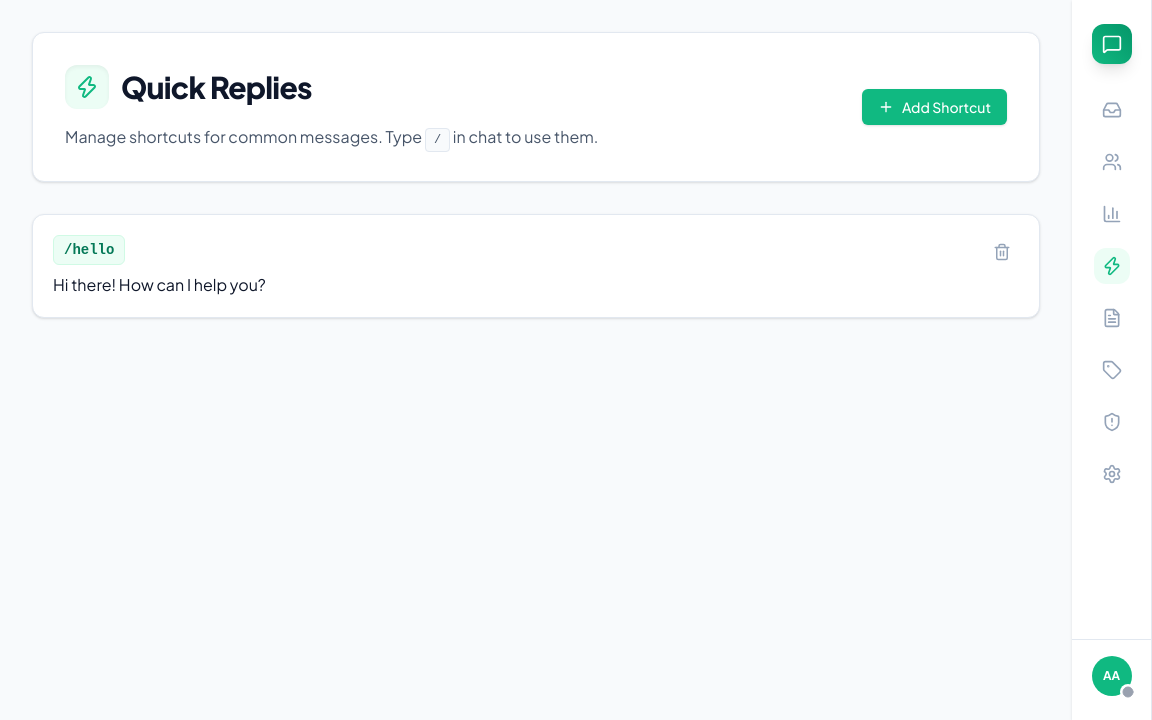
Test case: Quick Replies Page › shows an inline error banner (not a native alert()) when delete fails
Expected: the text "/hello" is shown, [53,235,125,265]
What coordinates should you click on to do the following:
click the button titled "Delete shortcut"
I would click on:
 (1002, 252)
Its box is [985,235,1019,269].
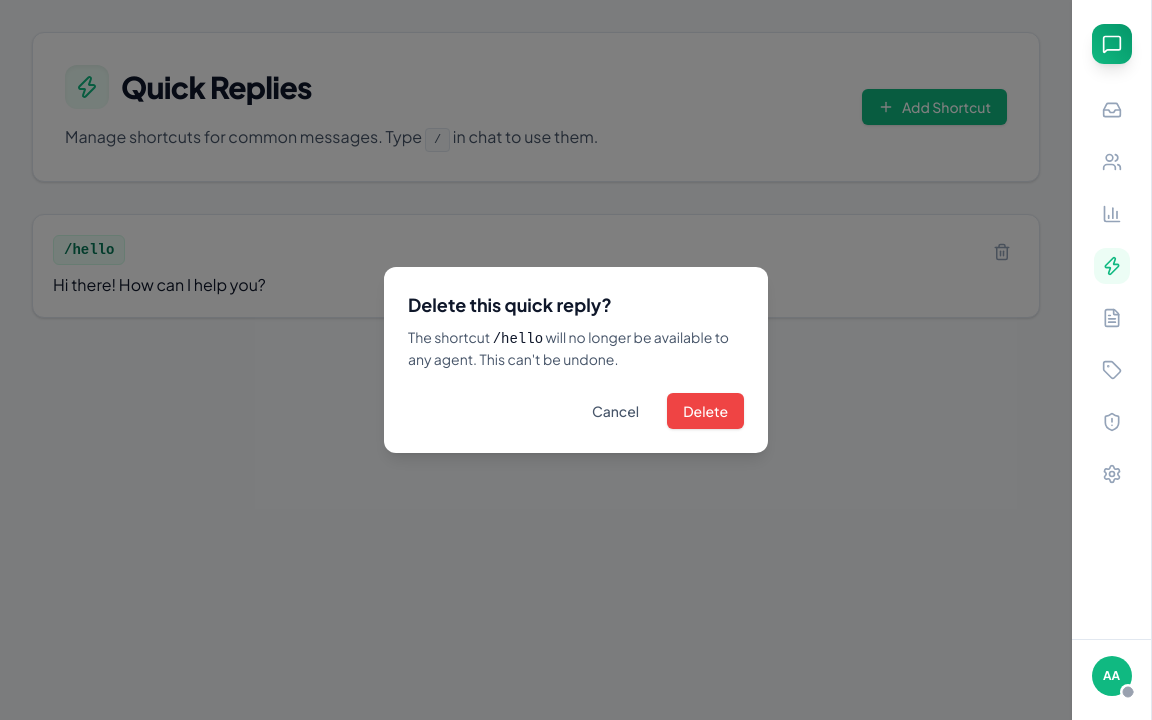
What coordinates should you click on to do the following:
click the button "Delete"
I would click on:
 (706, 411)
Its box is [667,393,744,429].
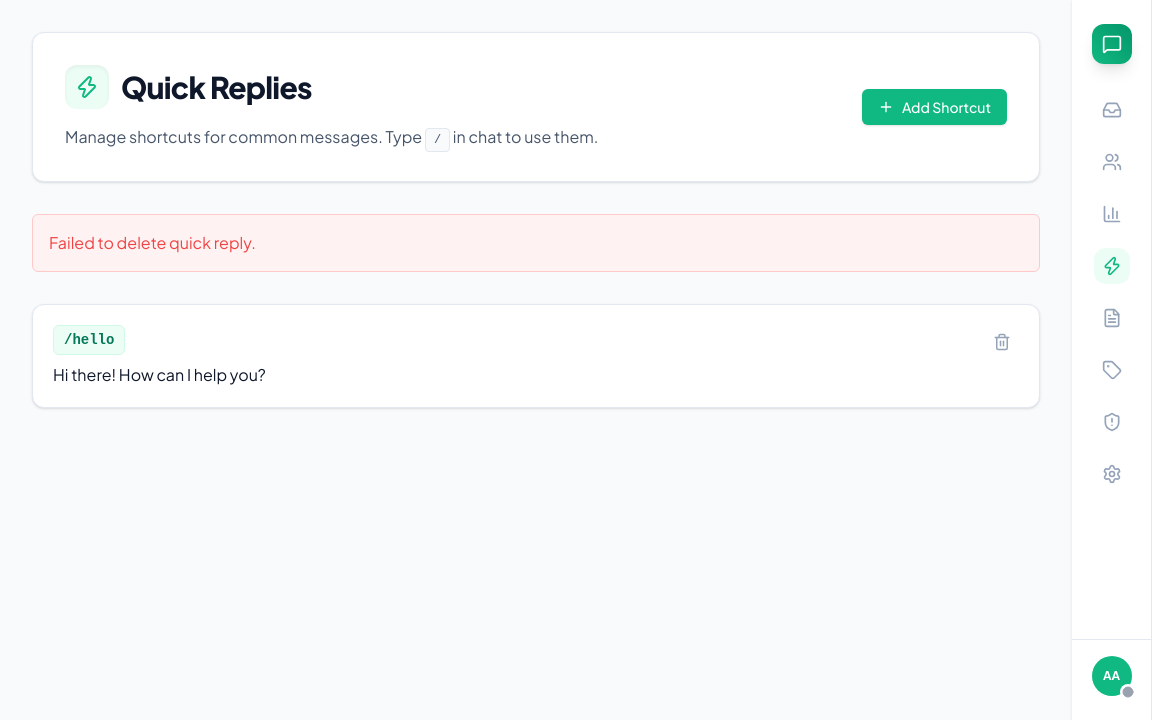
Now the text "Failed to delete quick reply." is shown, box [32,214,1040,272]
